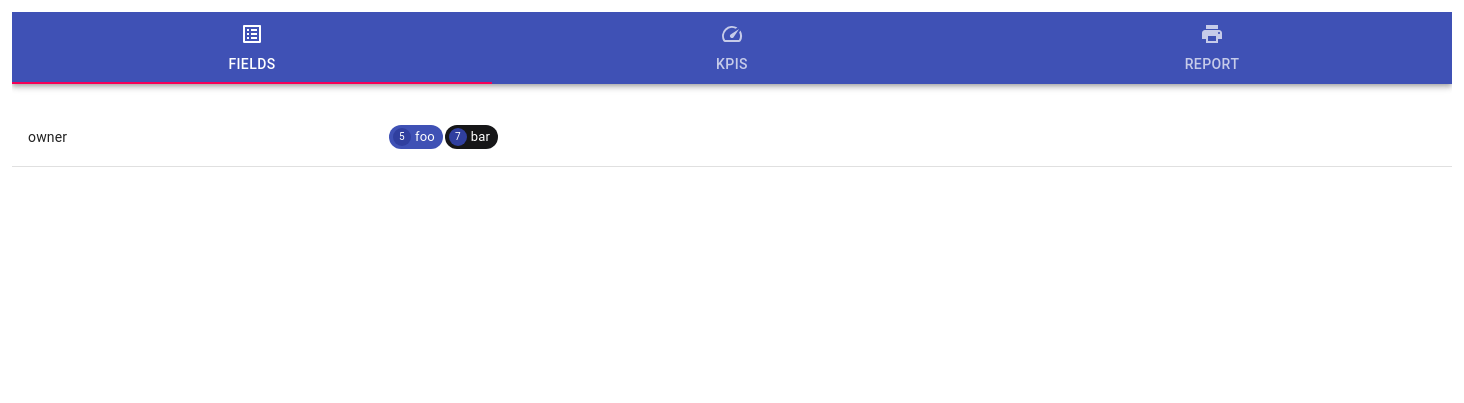
Test: <Facets /> › should display export button
This screenshot has width=1464, height=403.
Click the tab titled "Export current search as report" at {"x": 1212, "y": 48}, box [972, 12, 1452, 84]
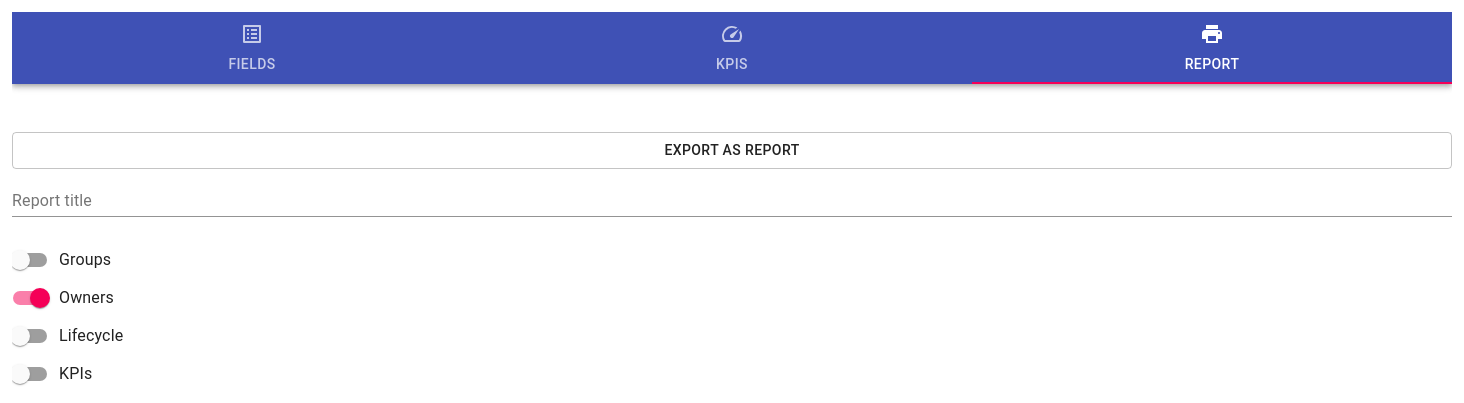
Result: the text "Export as report" is shown at [664, 142, 800, 158]
